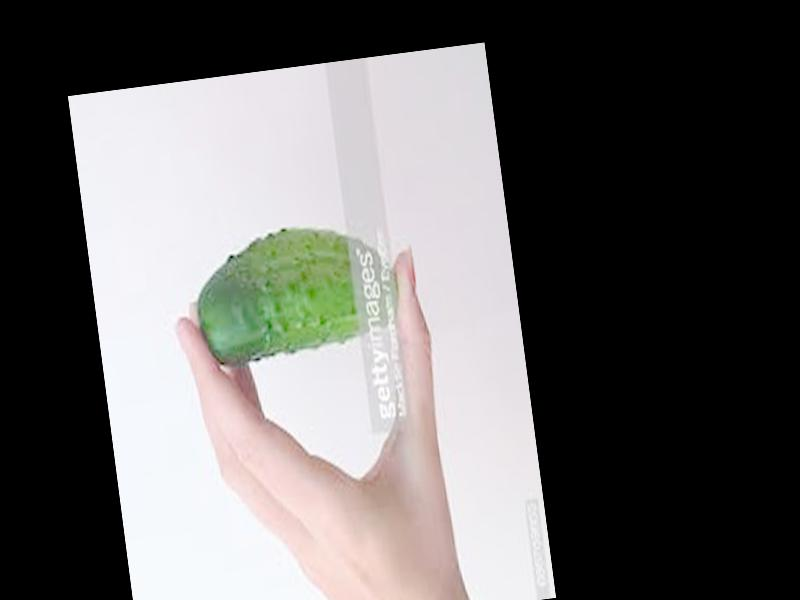Cucumber: (188, 214, 405, 367)
